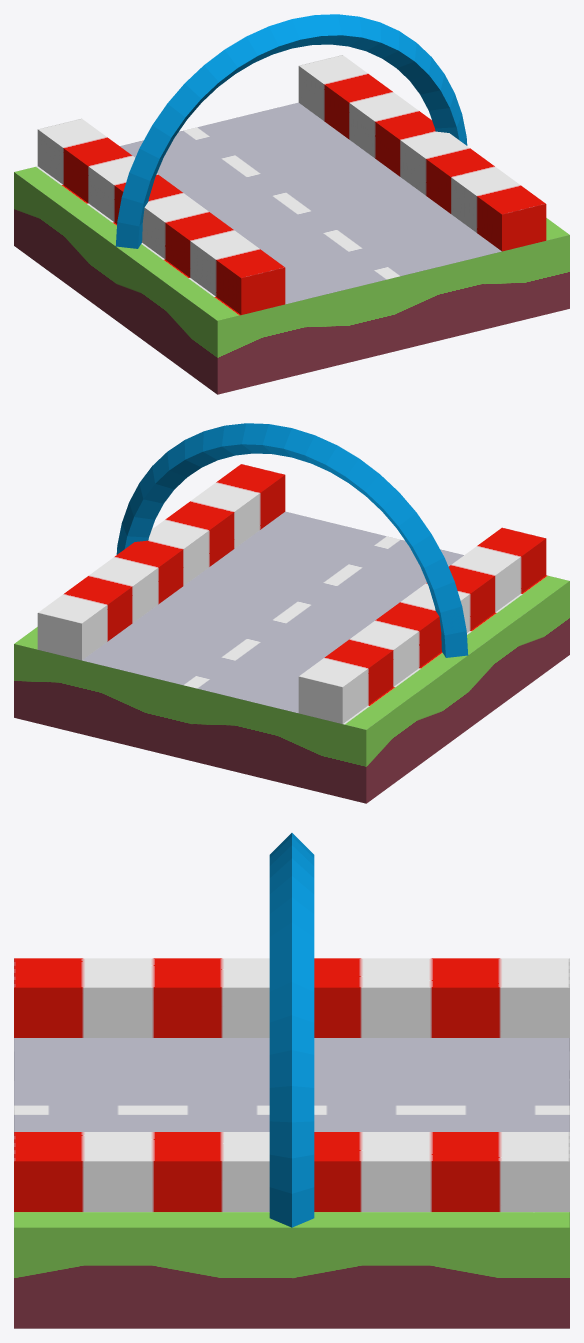
File: checkpoint.fbx
3 renders of one model, top to bottom at view 1: azimuth 30°, elevation 25°; view 2: azimuth 150°, elevation 25°; view 3: azimuth 270°, elevation 25°, orthographic. The views are drawn at different scales.
Visible parts, largest first — view 1: straight; view 2: straight; view 3: straight.
Part boxes in pixels (<box>): straight: <box>14,14,569,394</box>; straight: <box>14,423,569,803</box>; straight: <box>14,833,569,1328</box>.
Size of the model in its own units: 10 by 7 by 10.
Materials: 4 (3 with a texture image).
